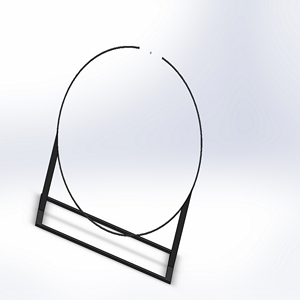circle: (35, 42, 204, 284)
